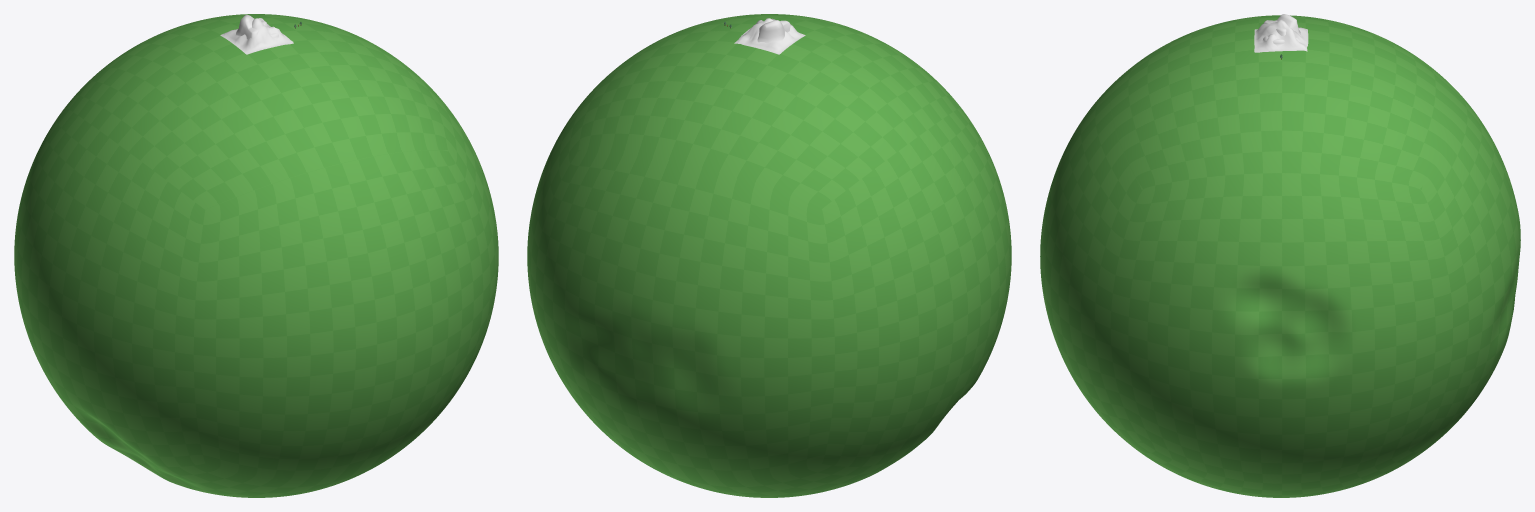
The model's file is planet.fbx.
3 views of the same model, side by side, from view 1: azimuth 30°, elevation 25°; view 2: azimuth 150°, elevation 25°; view 3: azimuth 270°, elevation 25° (orthographic).
Visible parts, largest first — view 1: planet_1, mount_0; view 2: planet_1, mount_0, hill_0; view 3: planet_1, mount_0.
Boxes of the visible parts, <box> form: planet_1: <box>14,14,498,497</box>; mount_0: <box>220,18,293,54</box>; planet_1: <box>527,14,1011,497</box>; mount_0: <box>734,18,805,54</box>; hill_0: <box>753,20,791,43</box>; planet_1: <box>1040,15,1520,497</box>; mount_0: <box>1254,19,1308,52</box>.
Bounding box in the file's own units: 15931 × 16705 × 15940.
